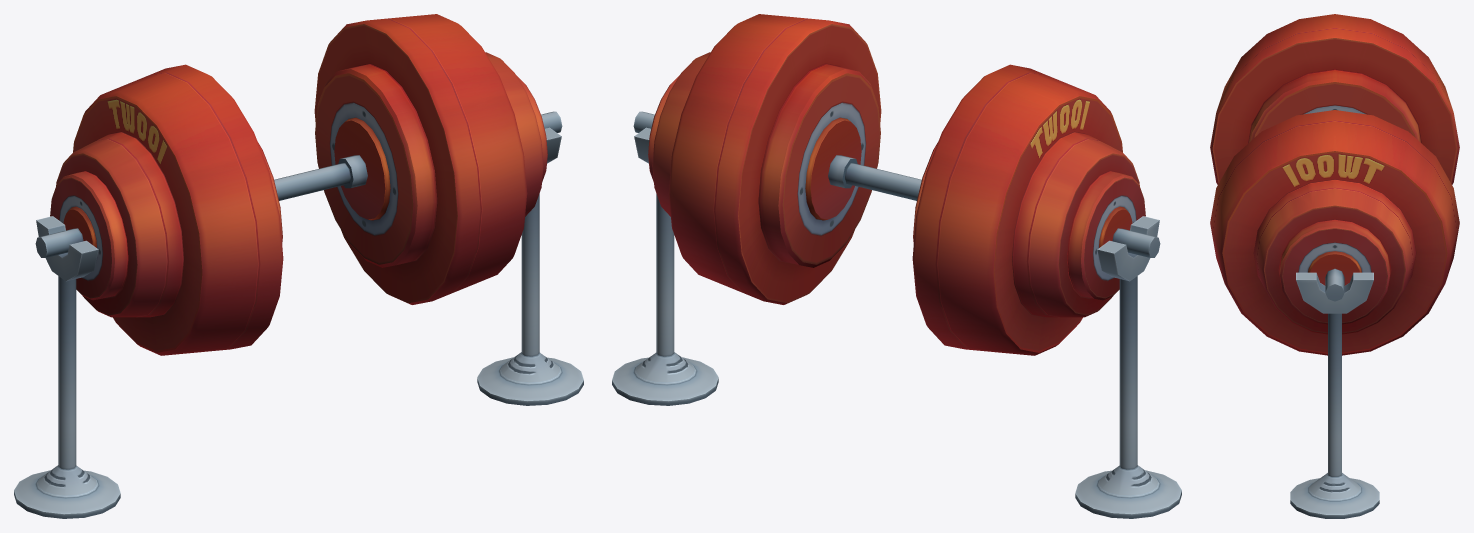
Rendered from zhonglishi_gangling.FBX.
3 renders of one model, left to right at view 1: azimuth 30°, elevation 25°; view 2: azimuth 150°, elevation 25°; view 3: azimuth 270°, elevation 25°, orthographic. The views are drawn at different scales.
Visible parts, largest first — view 1: zhonglishi_gangling; view 2: zhonglishi_gangling; view 3: zhonglishi_gangling.
Part boxes in pixels (x1,y1,x2,y2): zhonglishi_gangling: [14, 14, 583, 518]; zhonglishi_gangling: [612, 14, 1181, 518]; zhonglishi_gangling: [1210, 14, 1459, 518].
Size of the model in its own units: 364 by 243 by 166.
